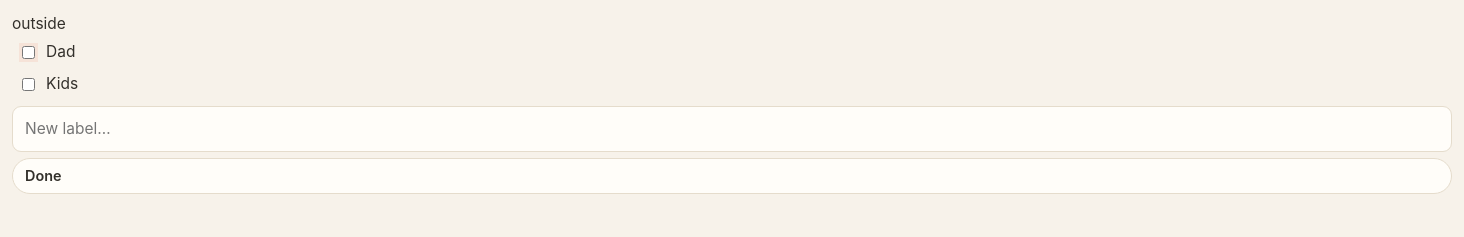
LabelChecklist › shows why a label was refused, and keeps what was typed
Step 1. Type "dad" into the field labelled "New label" → {"x": 732, "y": 129}, box 12,106 -> 1452,152
Then press Enter
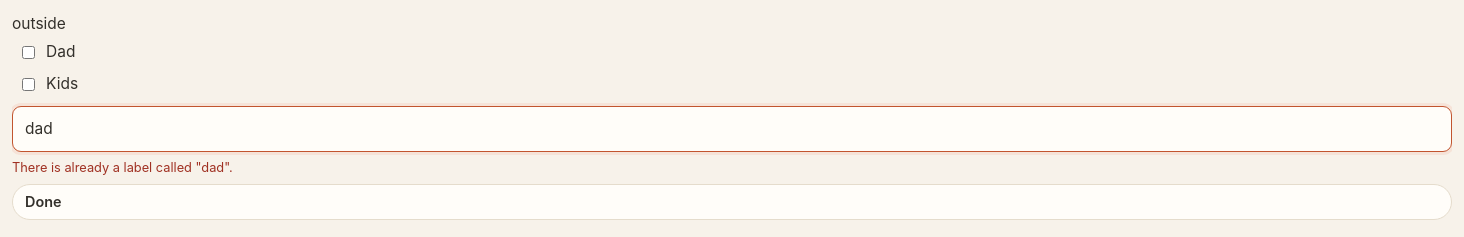
expect the message shows "There is already a label": met, box 12,160 -> 233,175
